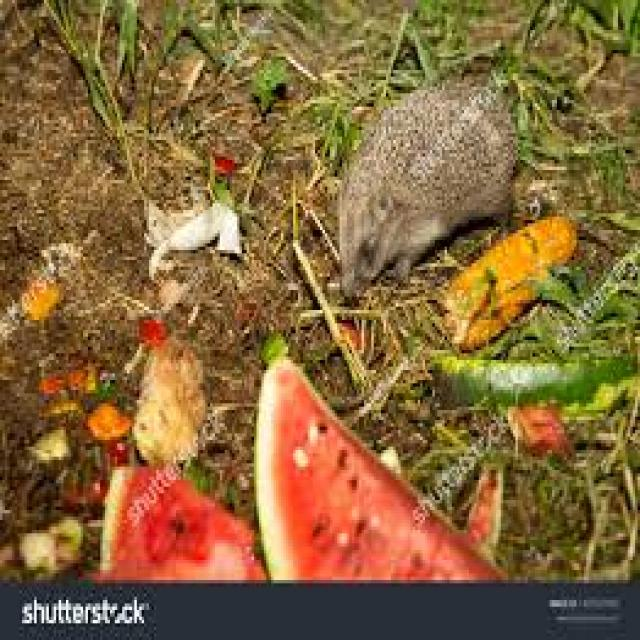food_waste: (57, 398, 578, 564), (438, 258, 617, 548)
